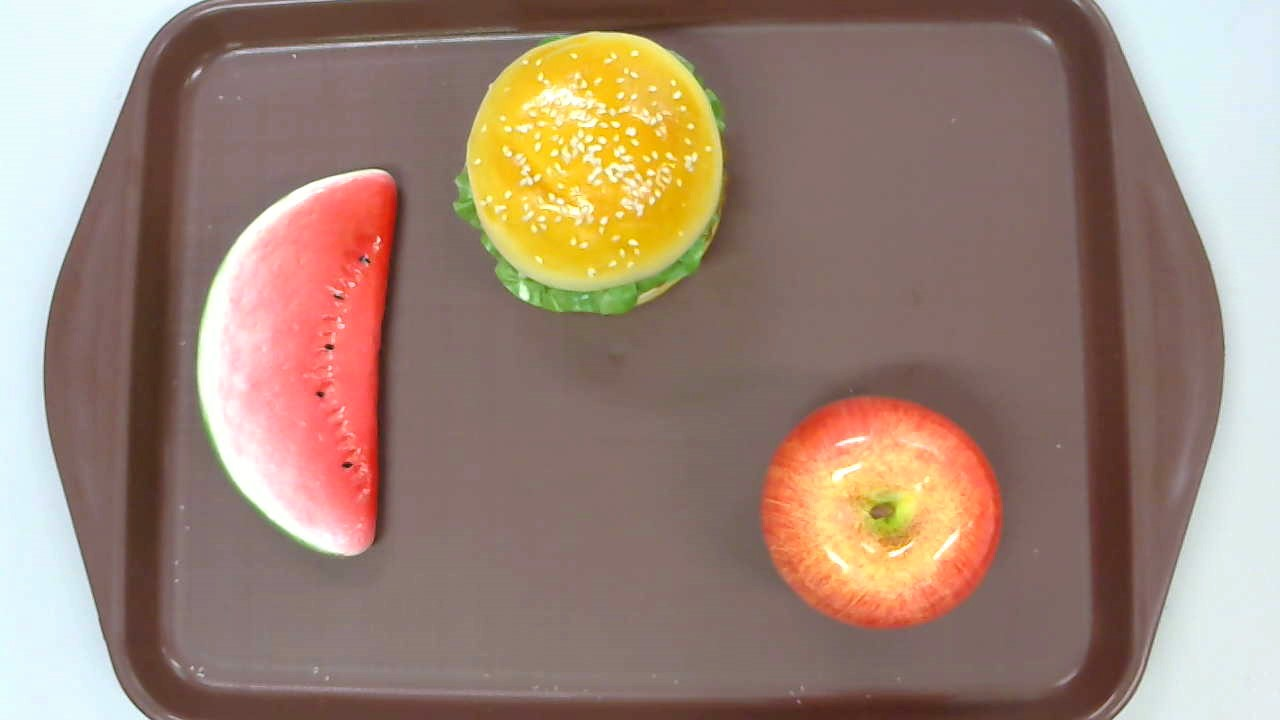hamburger: (451, 30, 728, 316)
red apple: (761, 393, 1003, 626)
water melon: (195, 169, 397, 559)
